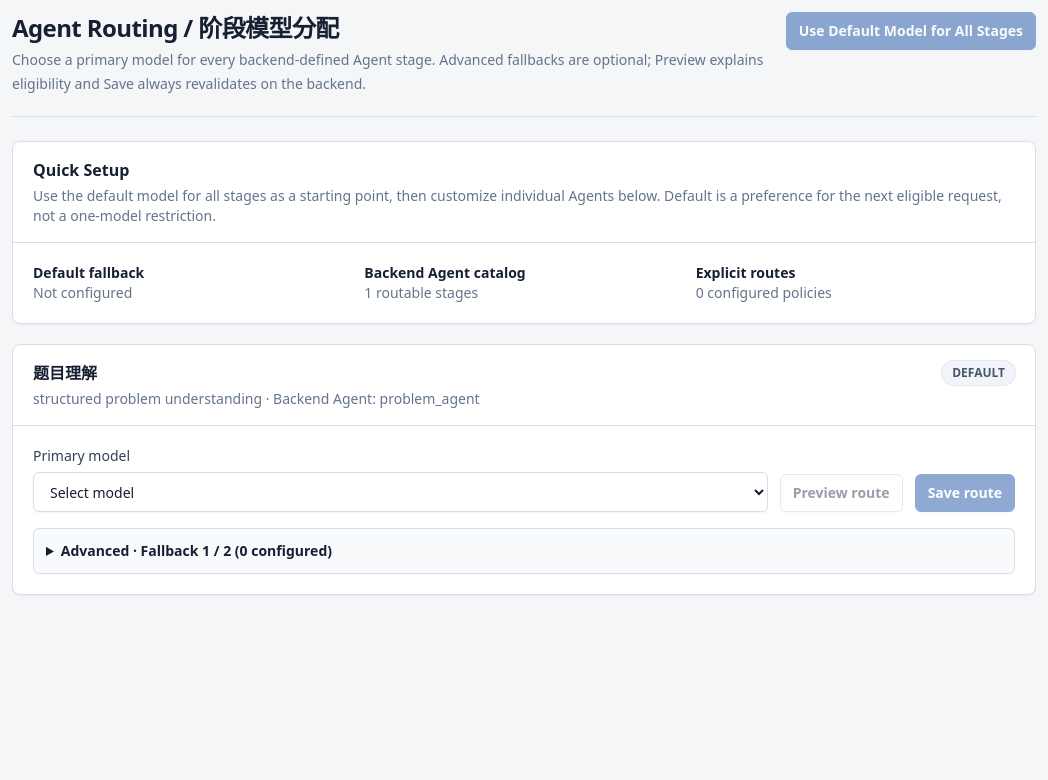
it: Agent Routing › drops preview authority when backend revalidation rejects a raced save
Step 1. Select "DeepSeek Official / Eligible Model" in the dropdown named "Primary model for problem_agent" → (400, 492), box [33,472,768,512]
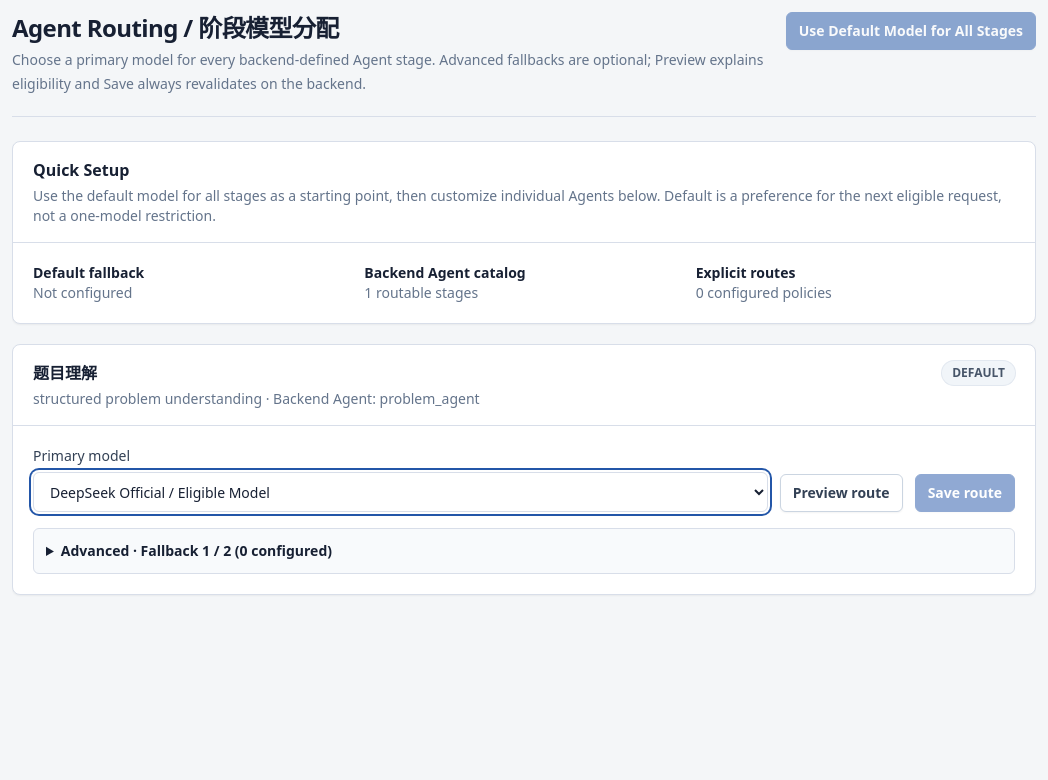
Step 2. Click the button "Preview route" → (841, 493), box [780,474,903,512]
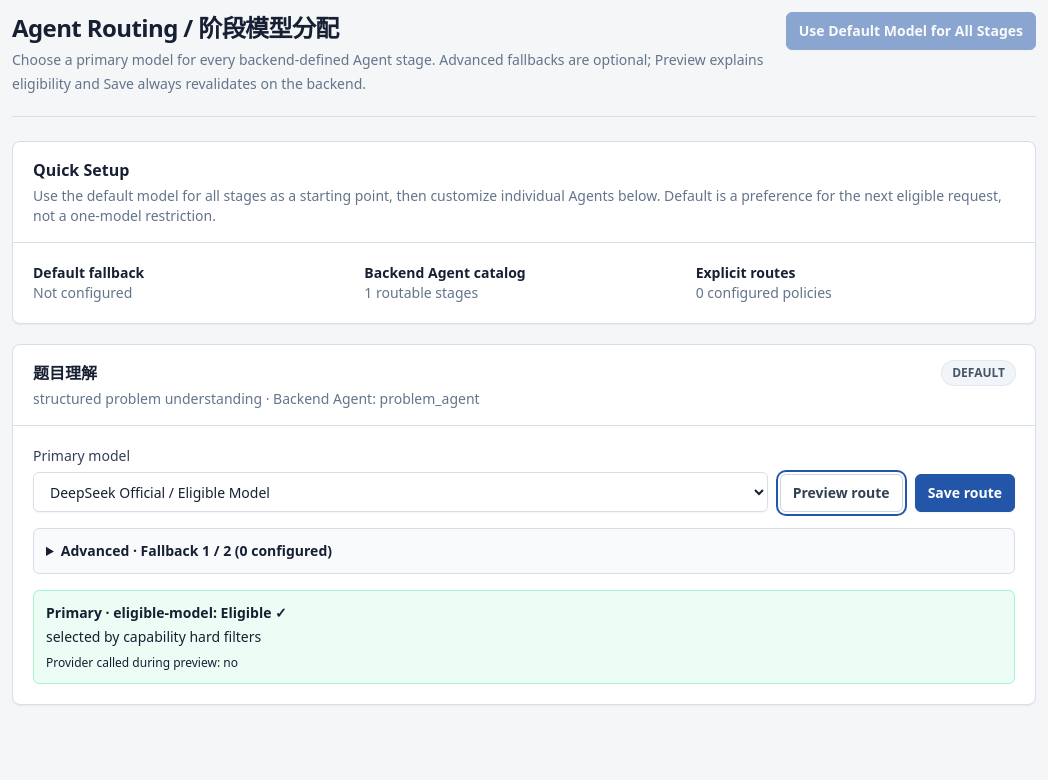
Expected: the text "Primary · eligible-model: Eligible ✓" is shown, [46,603,287,622]
Step 3. Click the button "Save route" → (965, 493), box [915,474,1015,512]
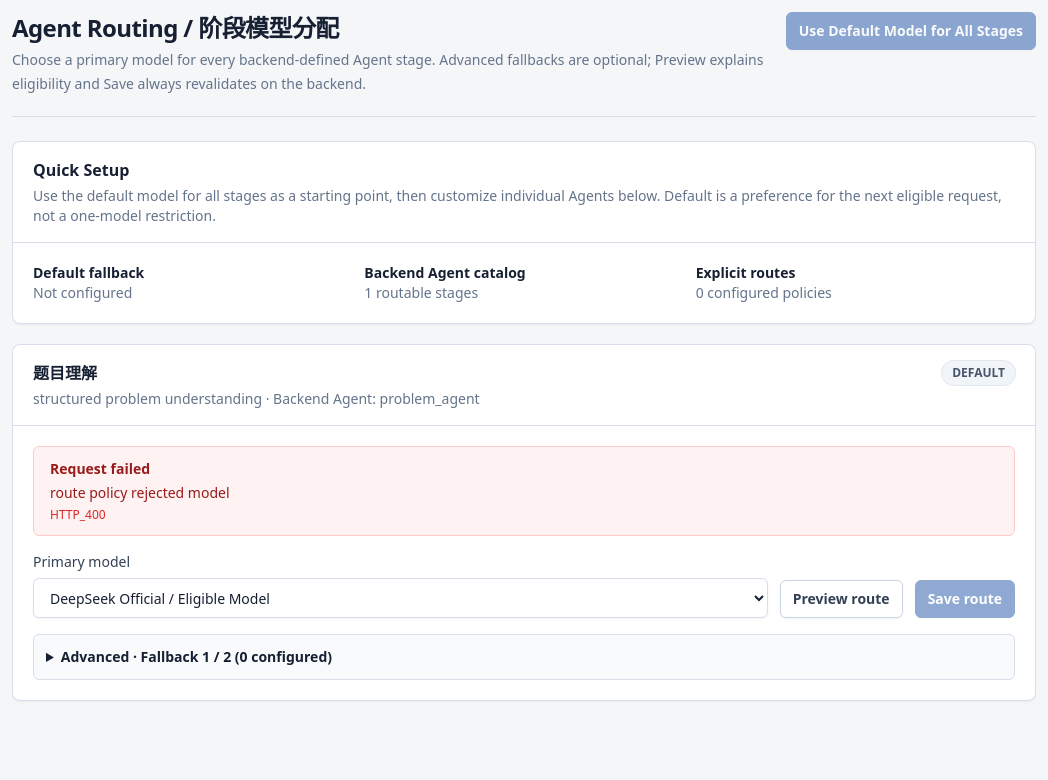
Expected: the text "route policy rejected model" is shown, [50,483,230,502]
Expected: the button "Save route" is disabled, [915,580,1015,618]
